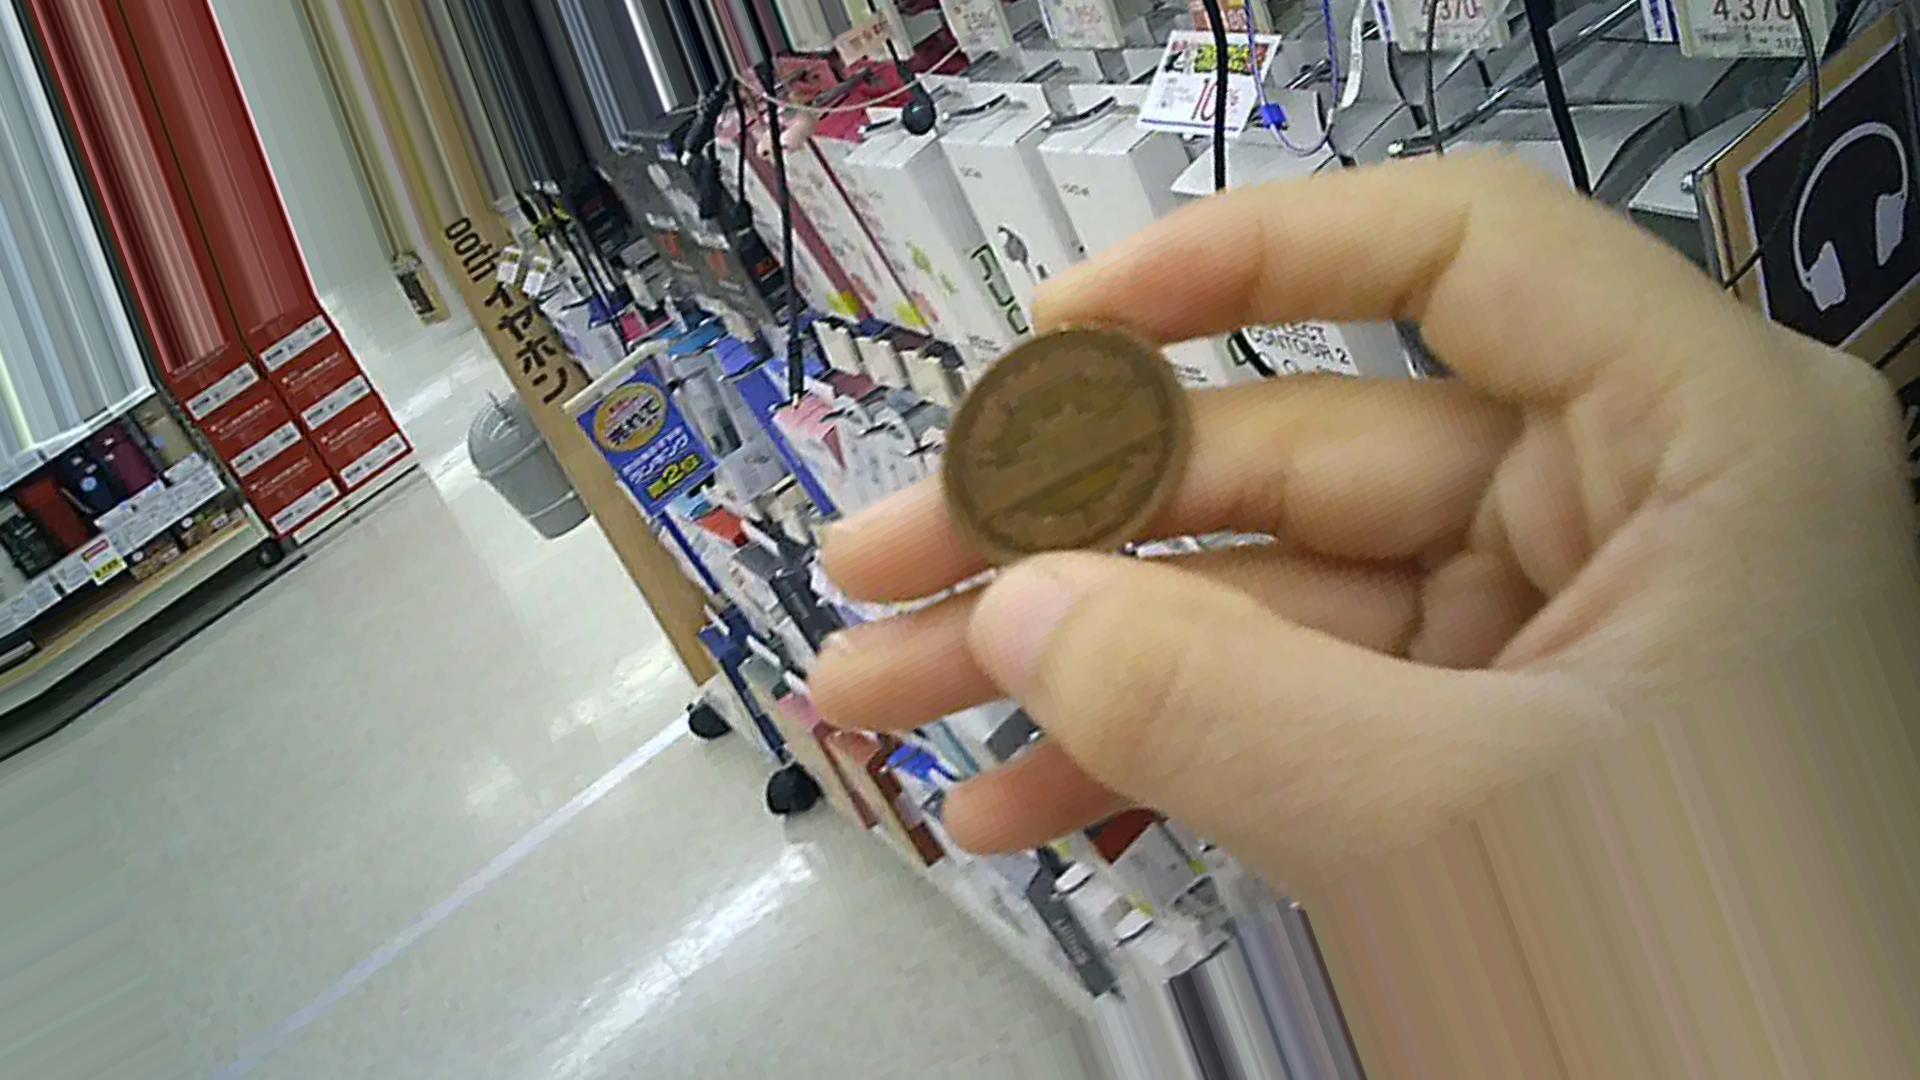10 Yen: (934, 316, 1174, 560)
